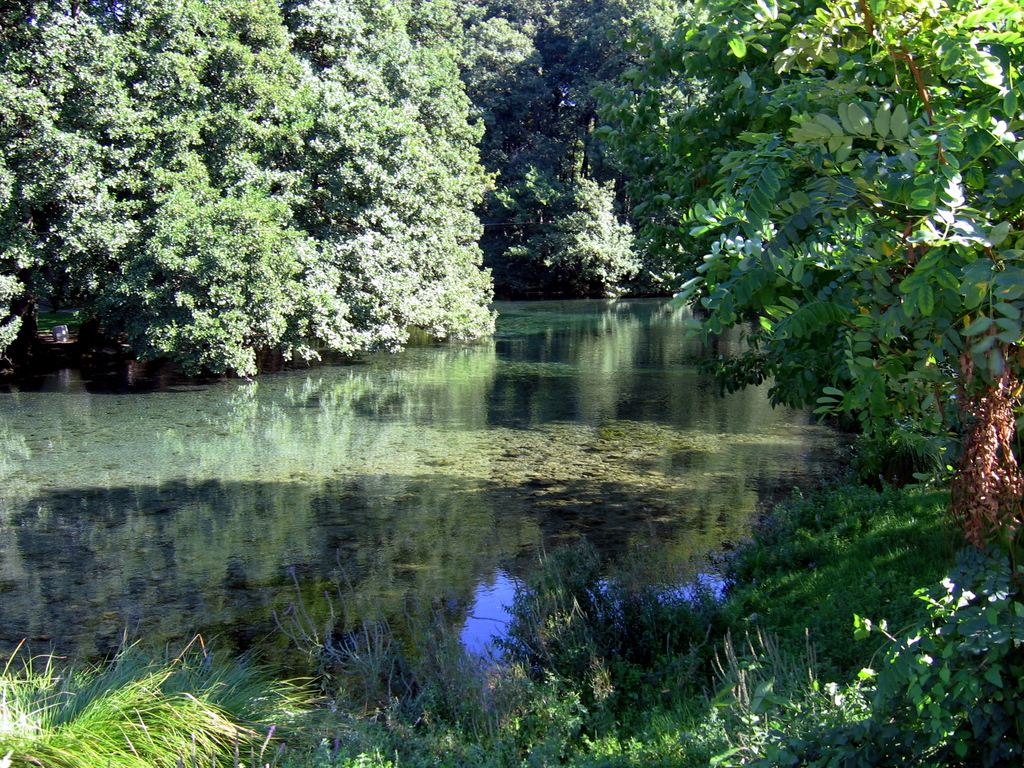Tree: (0, 0, 789, 389), (550, 0, 1023, 554)
